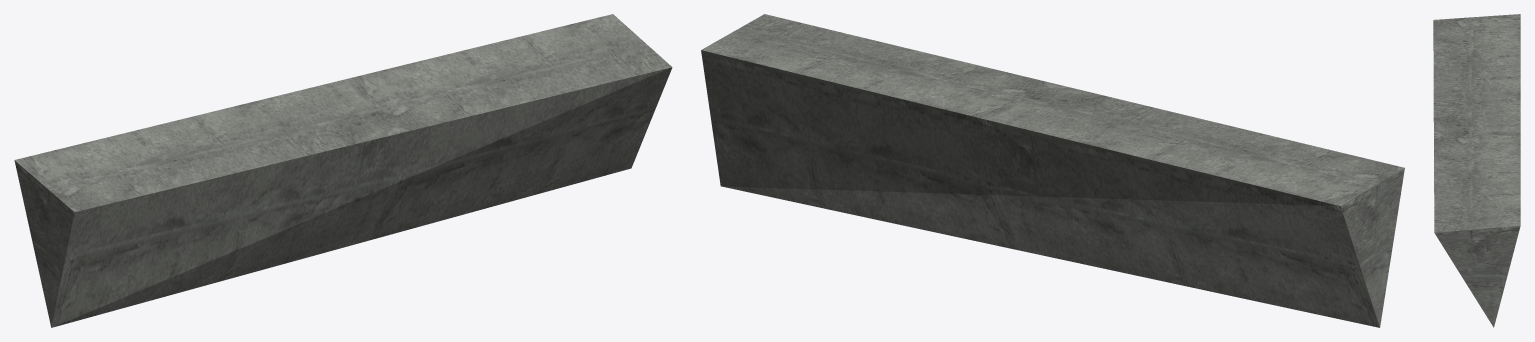
Rendered from PlatformEdge_LOD2.fbx.
3 renders of one model, left to right at view 1: azimuth 30°, elevation 25°; view 2: azimuth 150°, elevation 25°; view 3: azimuth 270°, elevation 25°, orthographic. The views are drawn at different scales.
Visible parts, largest first — view 1: PlatformEdge.001; view 2: PlatformEdge.001; view 3: PlatformEdge.001.
Part boxes in pixels (x1,y1,x2,y2): PlatformEdge.001: (14, 14, 672, 327); PlatformEdge.001: (701, 14, 1404, 327); PlatformEdge.001: (1433, 14, 1520, 327).
Bounding box in the file's own units: 2 × 0.45 × 0.3484.
Materials: 1 (1 with a texture image).
